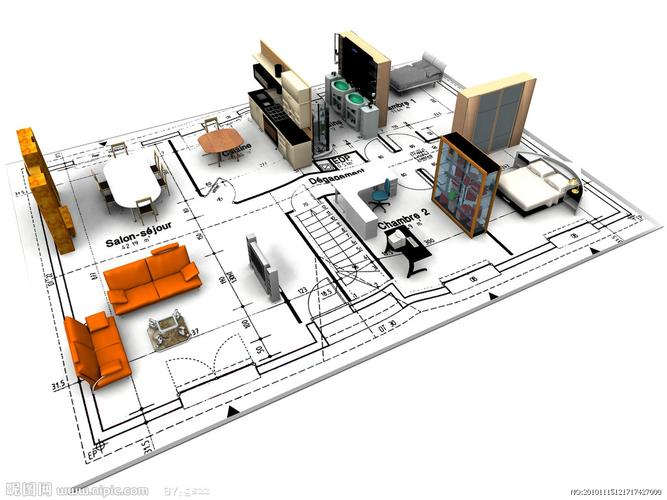buildings: (54, 88, 610, 460), (277, 95, 631, 376), (420, 85, 547, 262), (207, 72, 314, 214)
